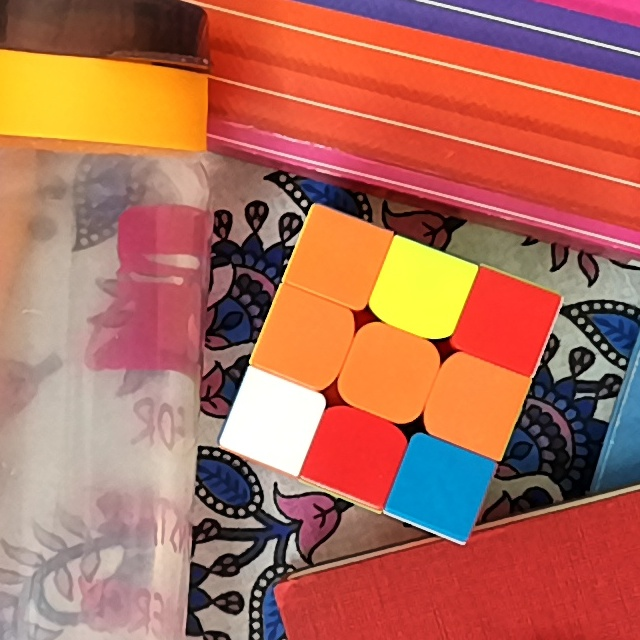tile: (473, 291, 540, 355), (387, 262, 455, 322), (407, 458, 475, 518), (444, 372, 508, 435), (275, 310, 338, 372), (321, 425, 388, 483), (357, 343, 420, 404), (308, 228, 369, 290), (243, 391, 305, 449)
